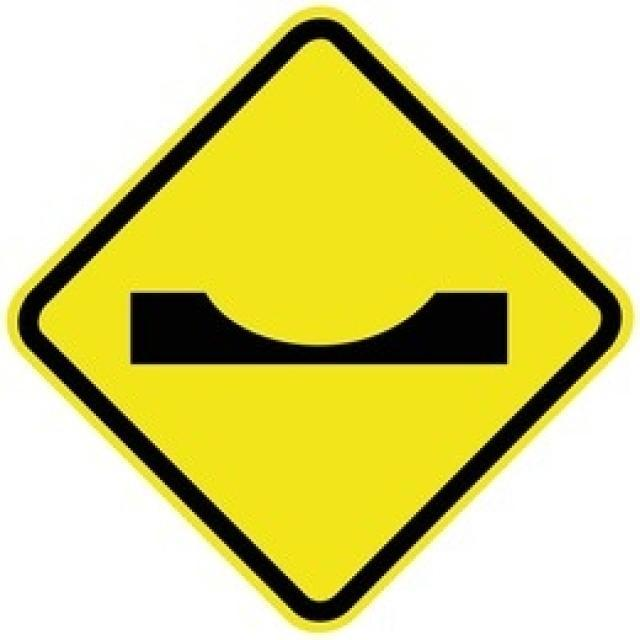dangerous dip: (27, 39, 623, 601)
